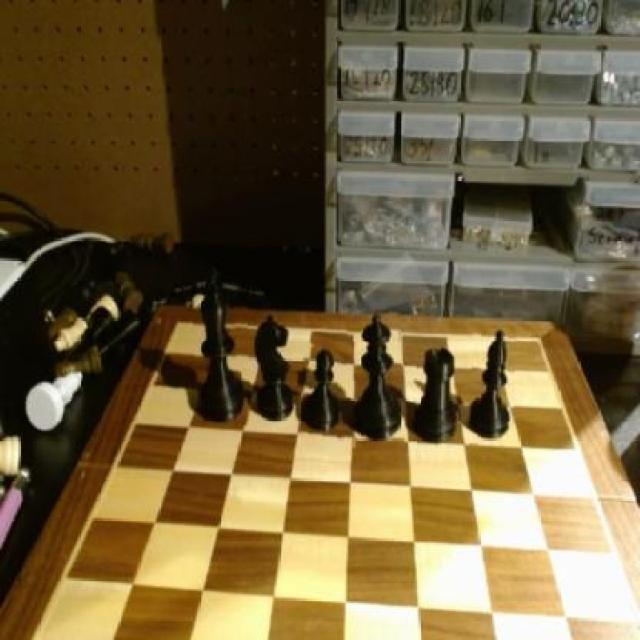bishop: (471, 320, 516, 448)
black-bishop: (192, 275, 248, 427)
black-king: (251, 305, 297, 427)
black-knight: (300, 345, 348, 446)
black-pawn: (348, 309, 404, 448)
black-queen: (417, 340, 463, 448)
